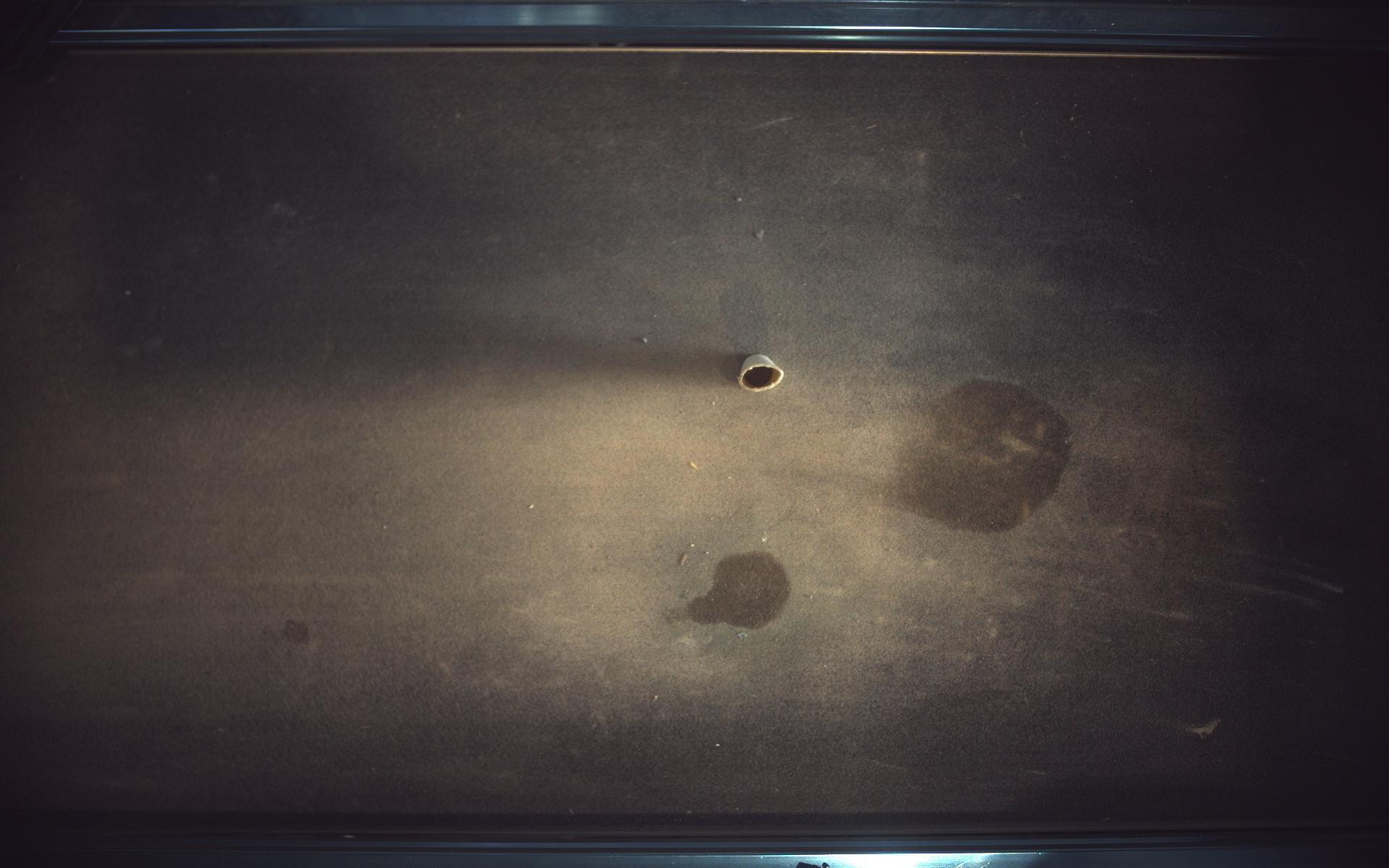pipes: (739, 353, 786, 392)
